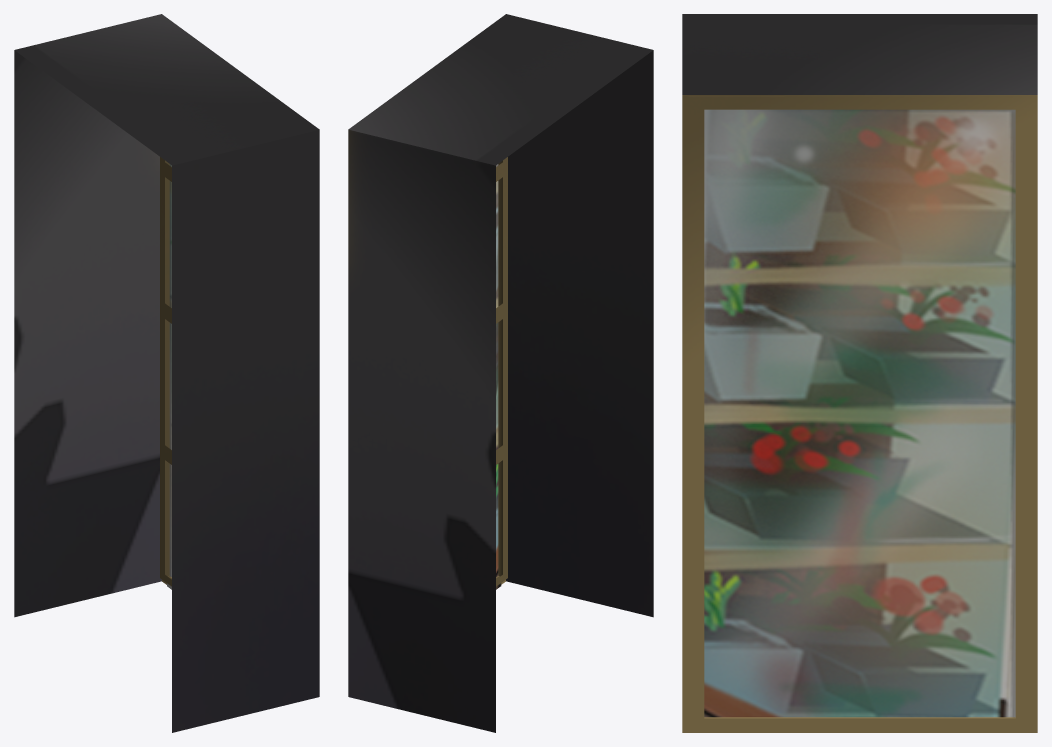
Rendered from Tx_prop_display_shelf_2.fbx.
3 views of the same model, side by side, from view 1: azimuth 30°, elevation 25°; view 2: azimuth 150°, elevation 25°; view 3: azimuth 270°, elevation 25° (orthographic). The views are drawn at different scales.
Parts seen in each view (by area): view 1: Tx_prop_display_shelf_10; view 2: Tx_prop_display_shelf_10; view 3: Tx_prop_display_shelf_10.
Part boxes in pixels (x1,y1,x2,y2): Tx_prop_display_shelf_10: (14, 14, 319, 732); Tx_prop_display_shelf_10: (348, 14, 653, 732); Tx_prop_display_shelf_10: (682, 14, 1037, 732).
Bounding box in the file's own units: 3.24 × 11.89 × 6.
1 material, 1 textured.
